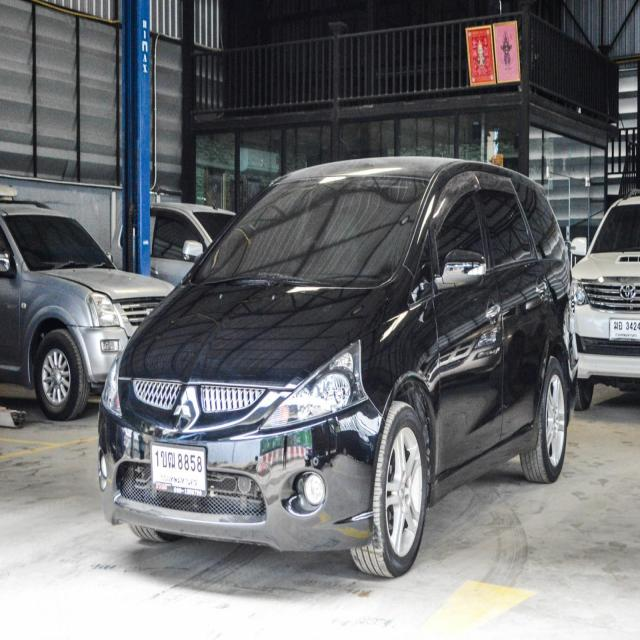license_plate: (148, 437, 209, 501)
